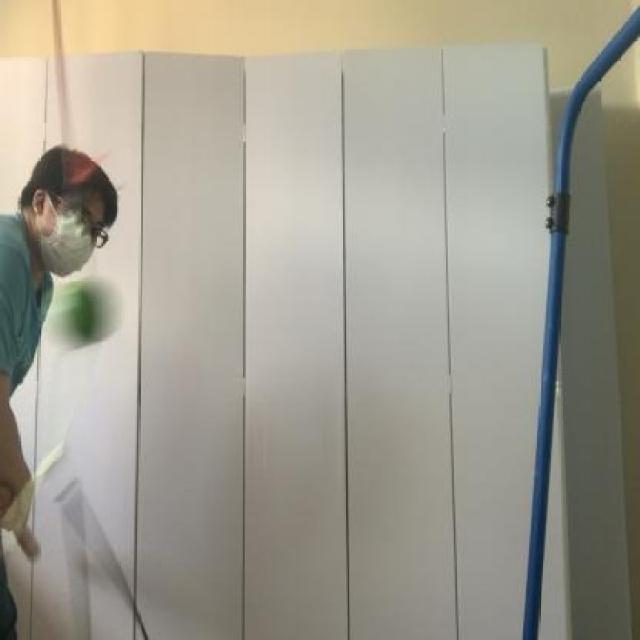baseball: (49, 266, 118, 362)
